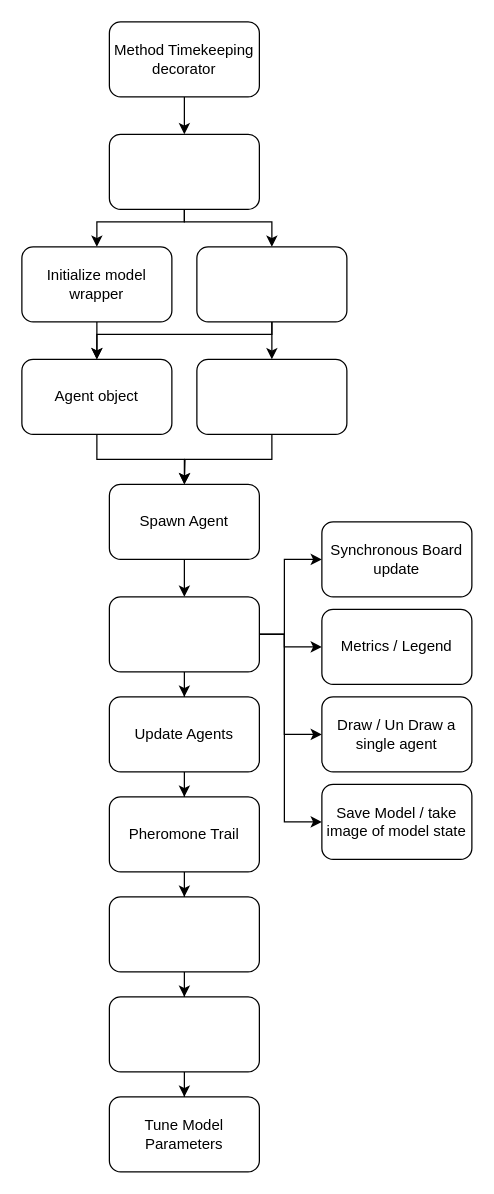
Image size: 494x1194. Some labels were removed from this diagram. Each missing label, with the centre of its shape:
Arg parsing: point 183,171
Implement Saturation: point 183,1034
Initial Model Update Mechanism: point 271,284
Pygame "hooks" / functionality: point 183,634
Turning Kernel: point 271,396
Update Pheromone Trail: point 183,934
